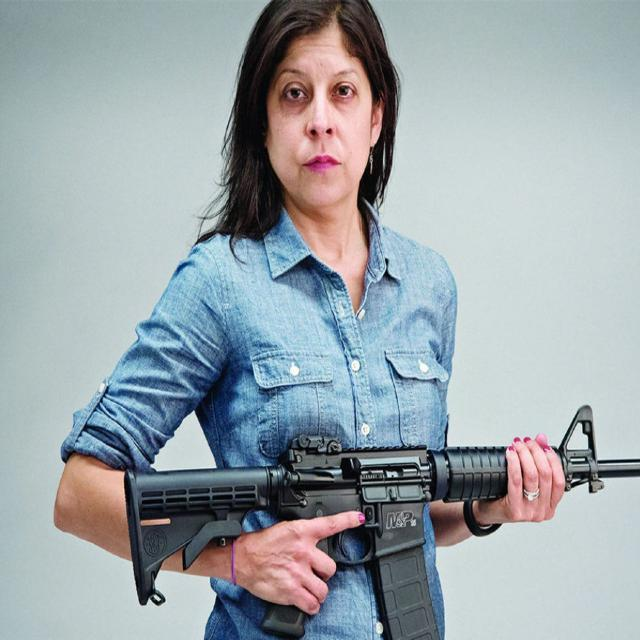Rifle: (124, 406, 640, 640)
